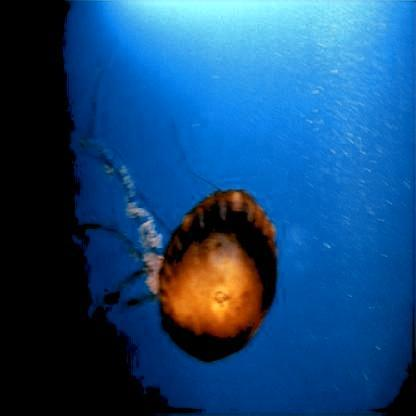Dressed: (60, 91, 278, 364)
